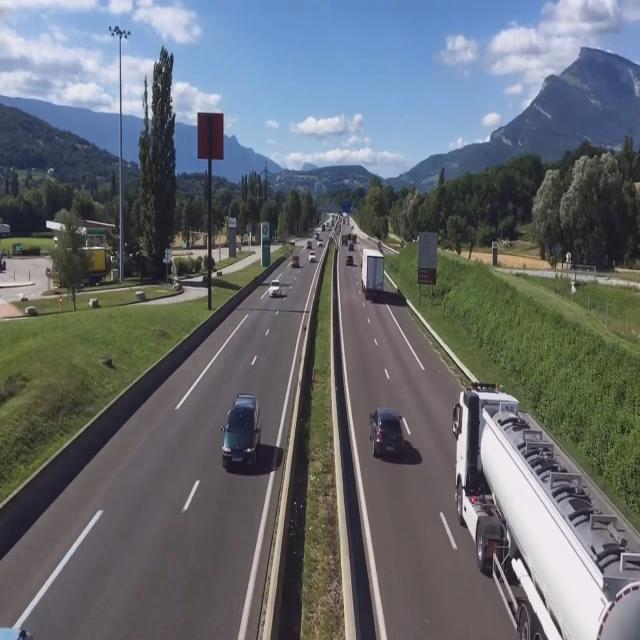car: (219, 393, 260, 473), (368, 406, 408, 462), (269, 276, 281, 300)
truck: (452, 378, 640, 640), (359, 245, 385, 304)
